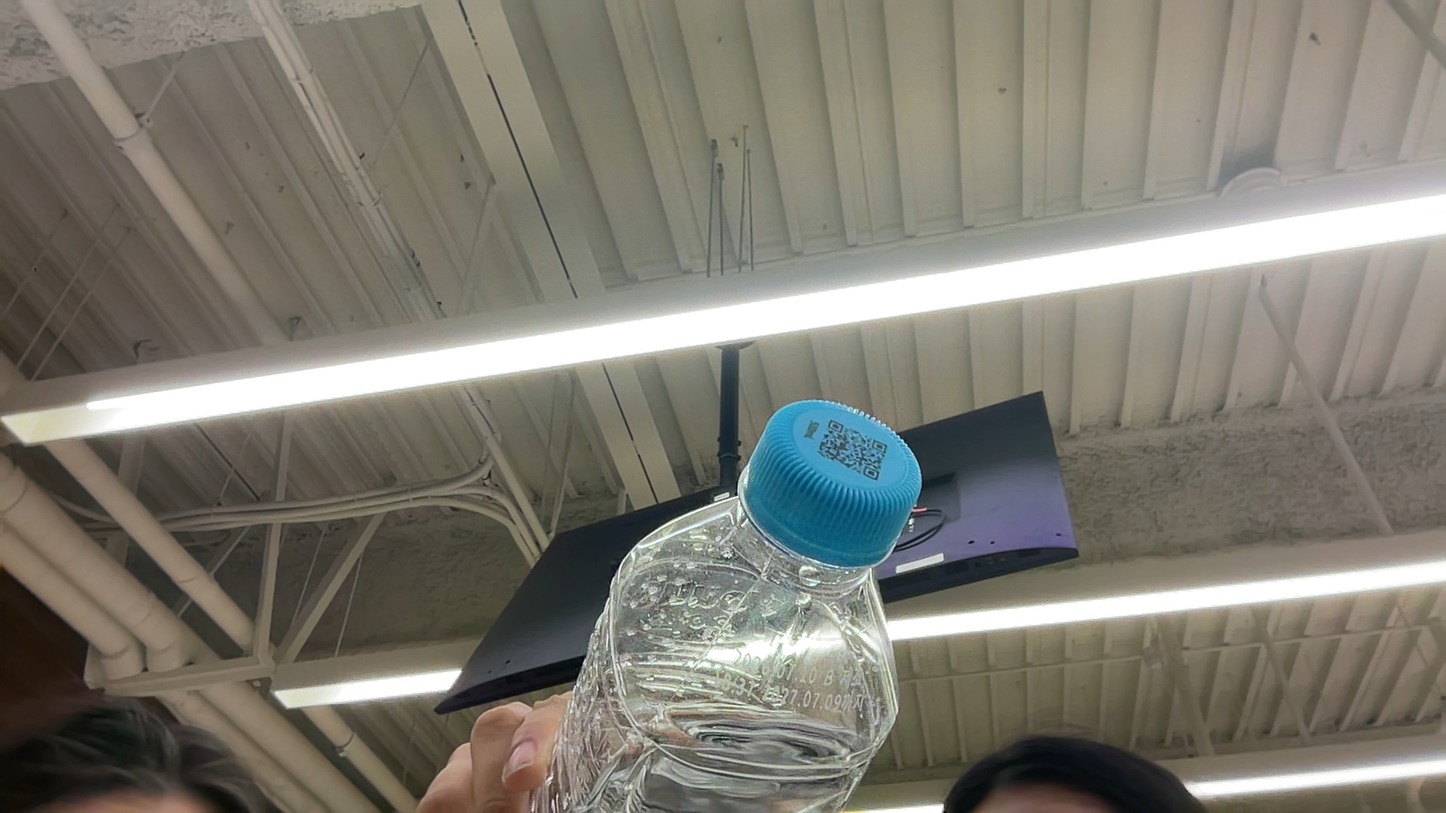Plastic: (742, 400, 923, 570)
